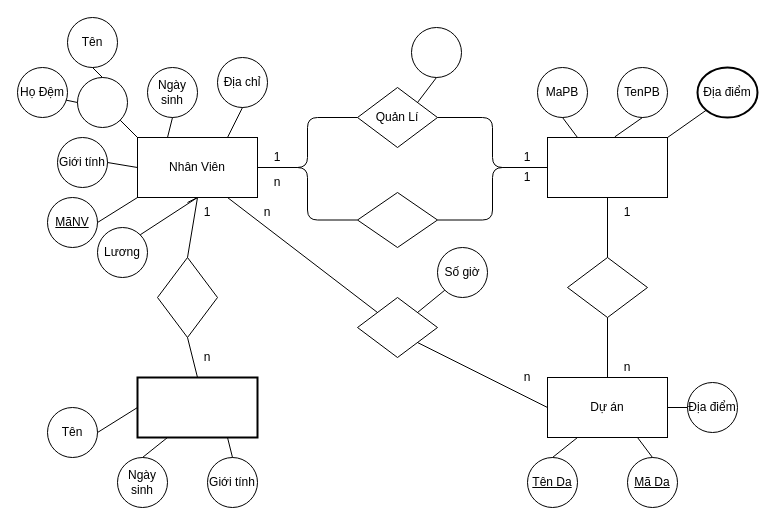
Some shapes in this 776 by 525 pixel diagram are drawn without their labels. Here are the shapes that lost their labels. From the top down, the centre of each, then its label:
the point at 436,52: Ngày nhận chức
the point at 102,102: Họ Tên
the point at 607,167: Phong Ban
the point at 397,220: Làm viêc cho
the point at 187,297: Có
the point at 607,287: Kiểm soát
the point at 397,327: Làm việc trên
the point at 197,407: Con
